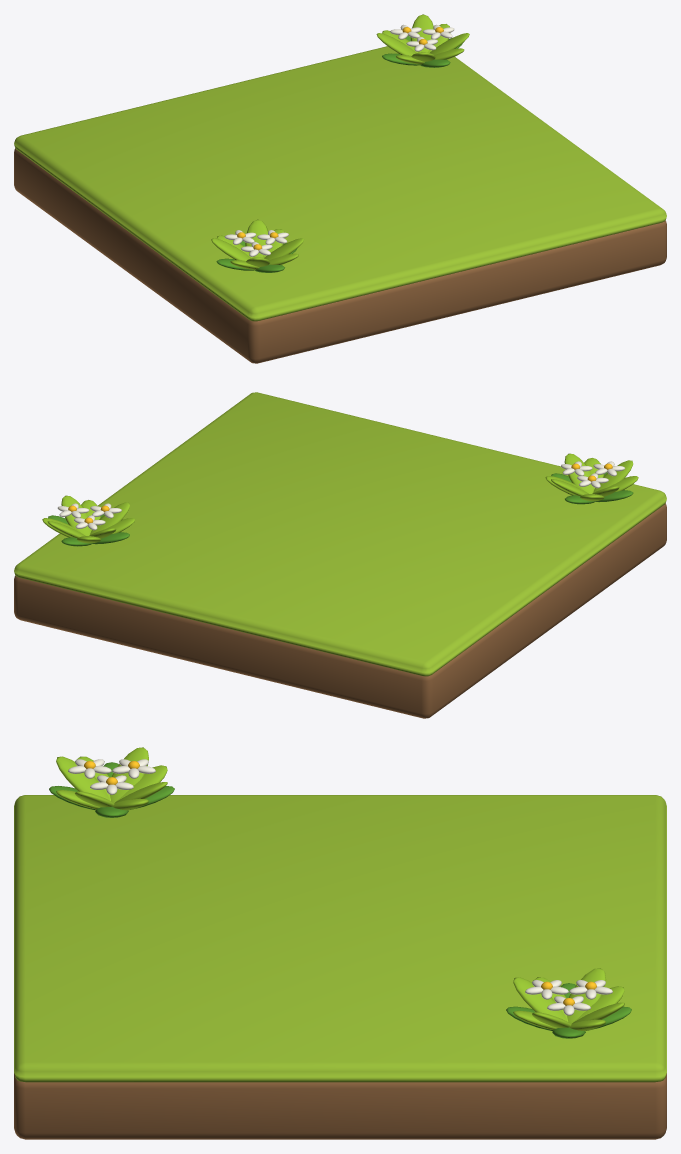
Rendered from grass_tile.glb.
The picture shows the model from 3 angles, top to bottom: view 1: azimuth 30°, elevation 25°; view 2: azimuth 150°, elevation 25°; view 3: azimuth 270°, elevation 25°; orthographic projection. The views are drawn at different scales.
Visible parts, largest first — view 1: grass_tile; view 2: grass_tile; view 3: grass_tile.
Part boxes in pixels (box(x1,y1,x2,y2)): grass_tile: box(14, 14, 666, 363); grass_tile: box(14, 392, 666, 718); grass_tile: box(14, 747, 666, 1139).
Bounding box in the file's own units: 2 × 0.4328 × 2.
